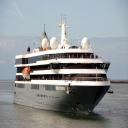cruises: (13, 14, 113, 120)
